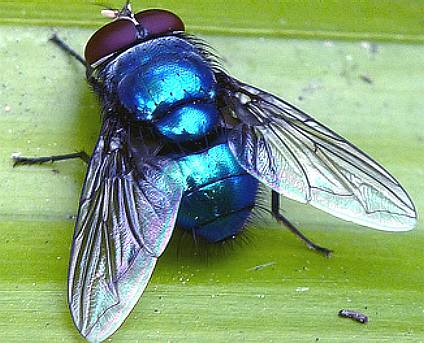green bottles flies: (6, 4, 417, 343)
